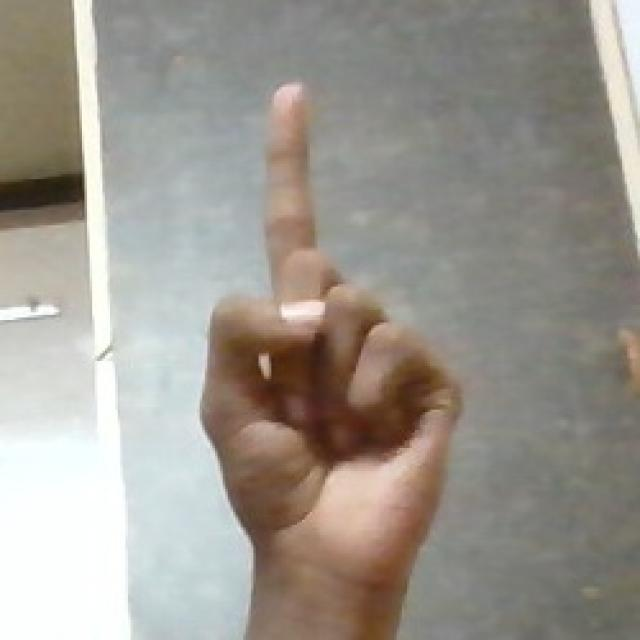Numeric-1: (204, 75, 452, 609)
